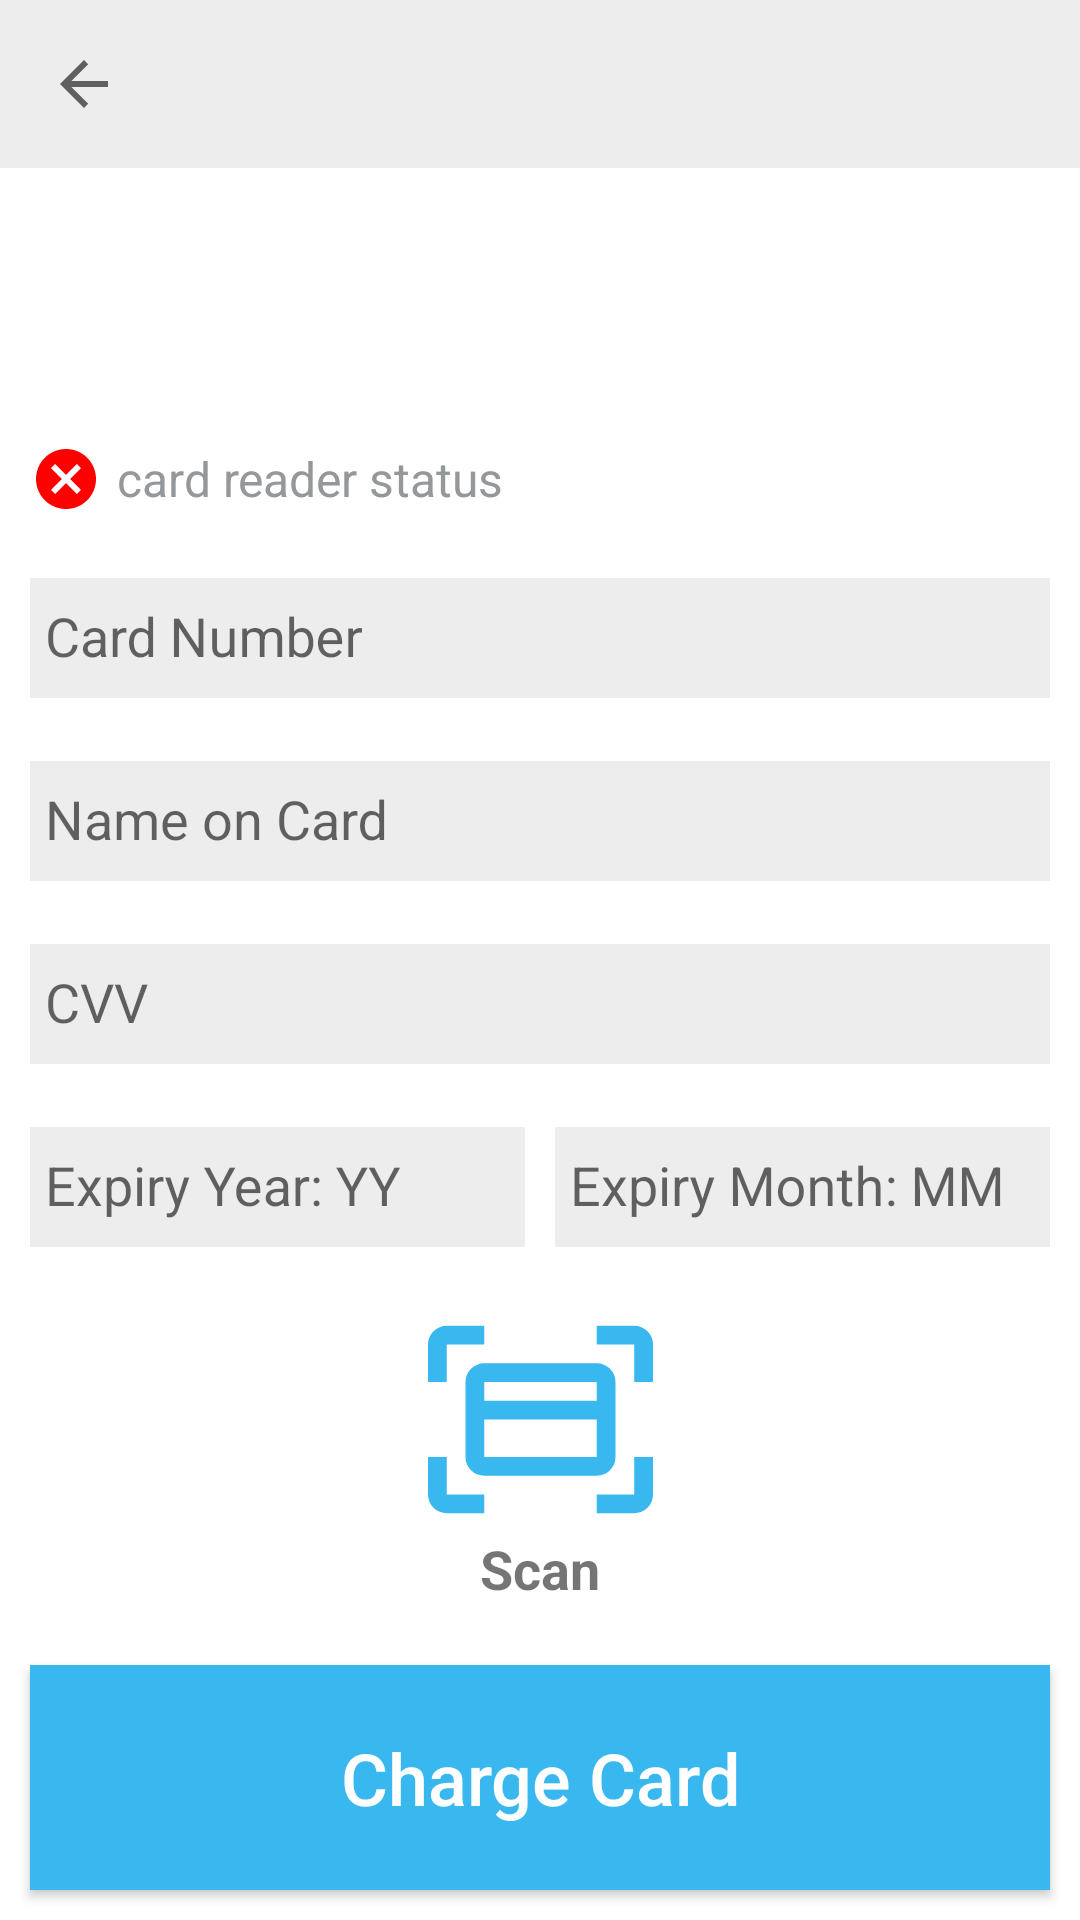

Where to tap for icons on this 1080x1920 app screen, as [x,y]:
clear circle: [66,479]
